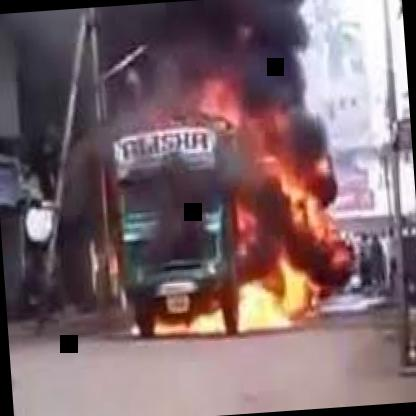fire: (174, 69, 326, 330)
